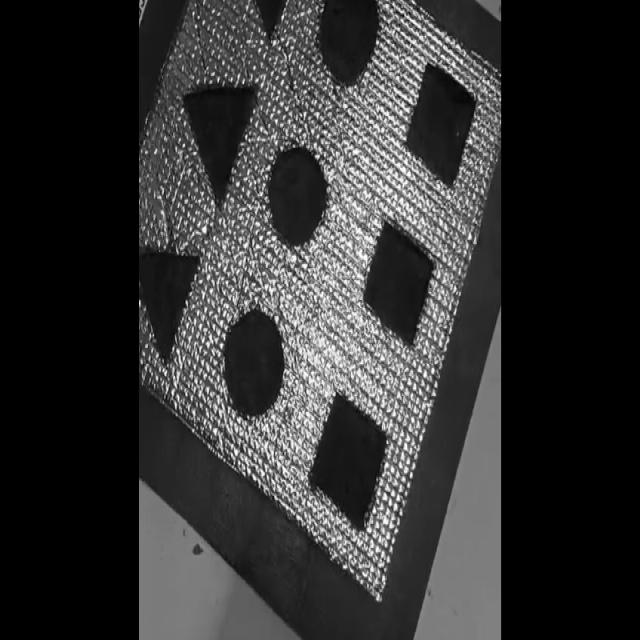mtcircle: (222, 306, 286, 419), (266, 143, 329, 248), (318, 1, 380, 86)
mtcube: (308, 390, 388, 534), (360, 217, 436, 351), (407, 60, 477, 184)
mttriangle: (182, 83, 260, 210), (139, 246, 200, 362), (249, 0, 288, 42)
wb: (133, 2, 502, 613)
